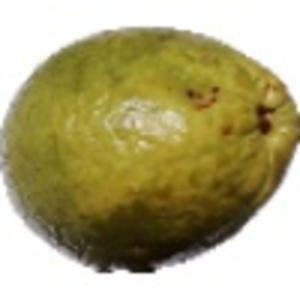goiaba: (3, 22, 294, 268)
